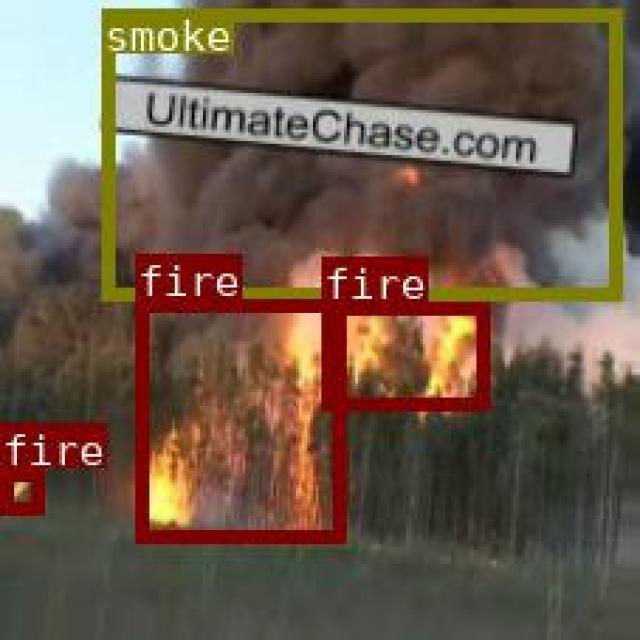fire: (133, 297, 344, 540), (321, 300, 488, 409), (0, 465, 42, 513)
smoke: (99, 6, 620, 297)
